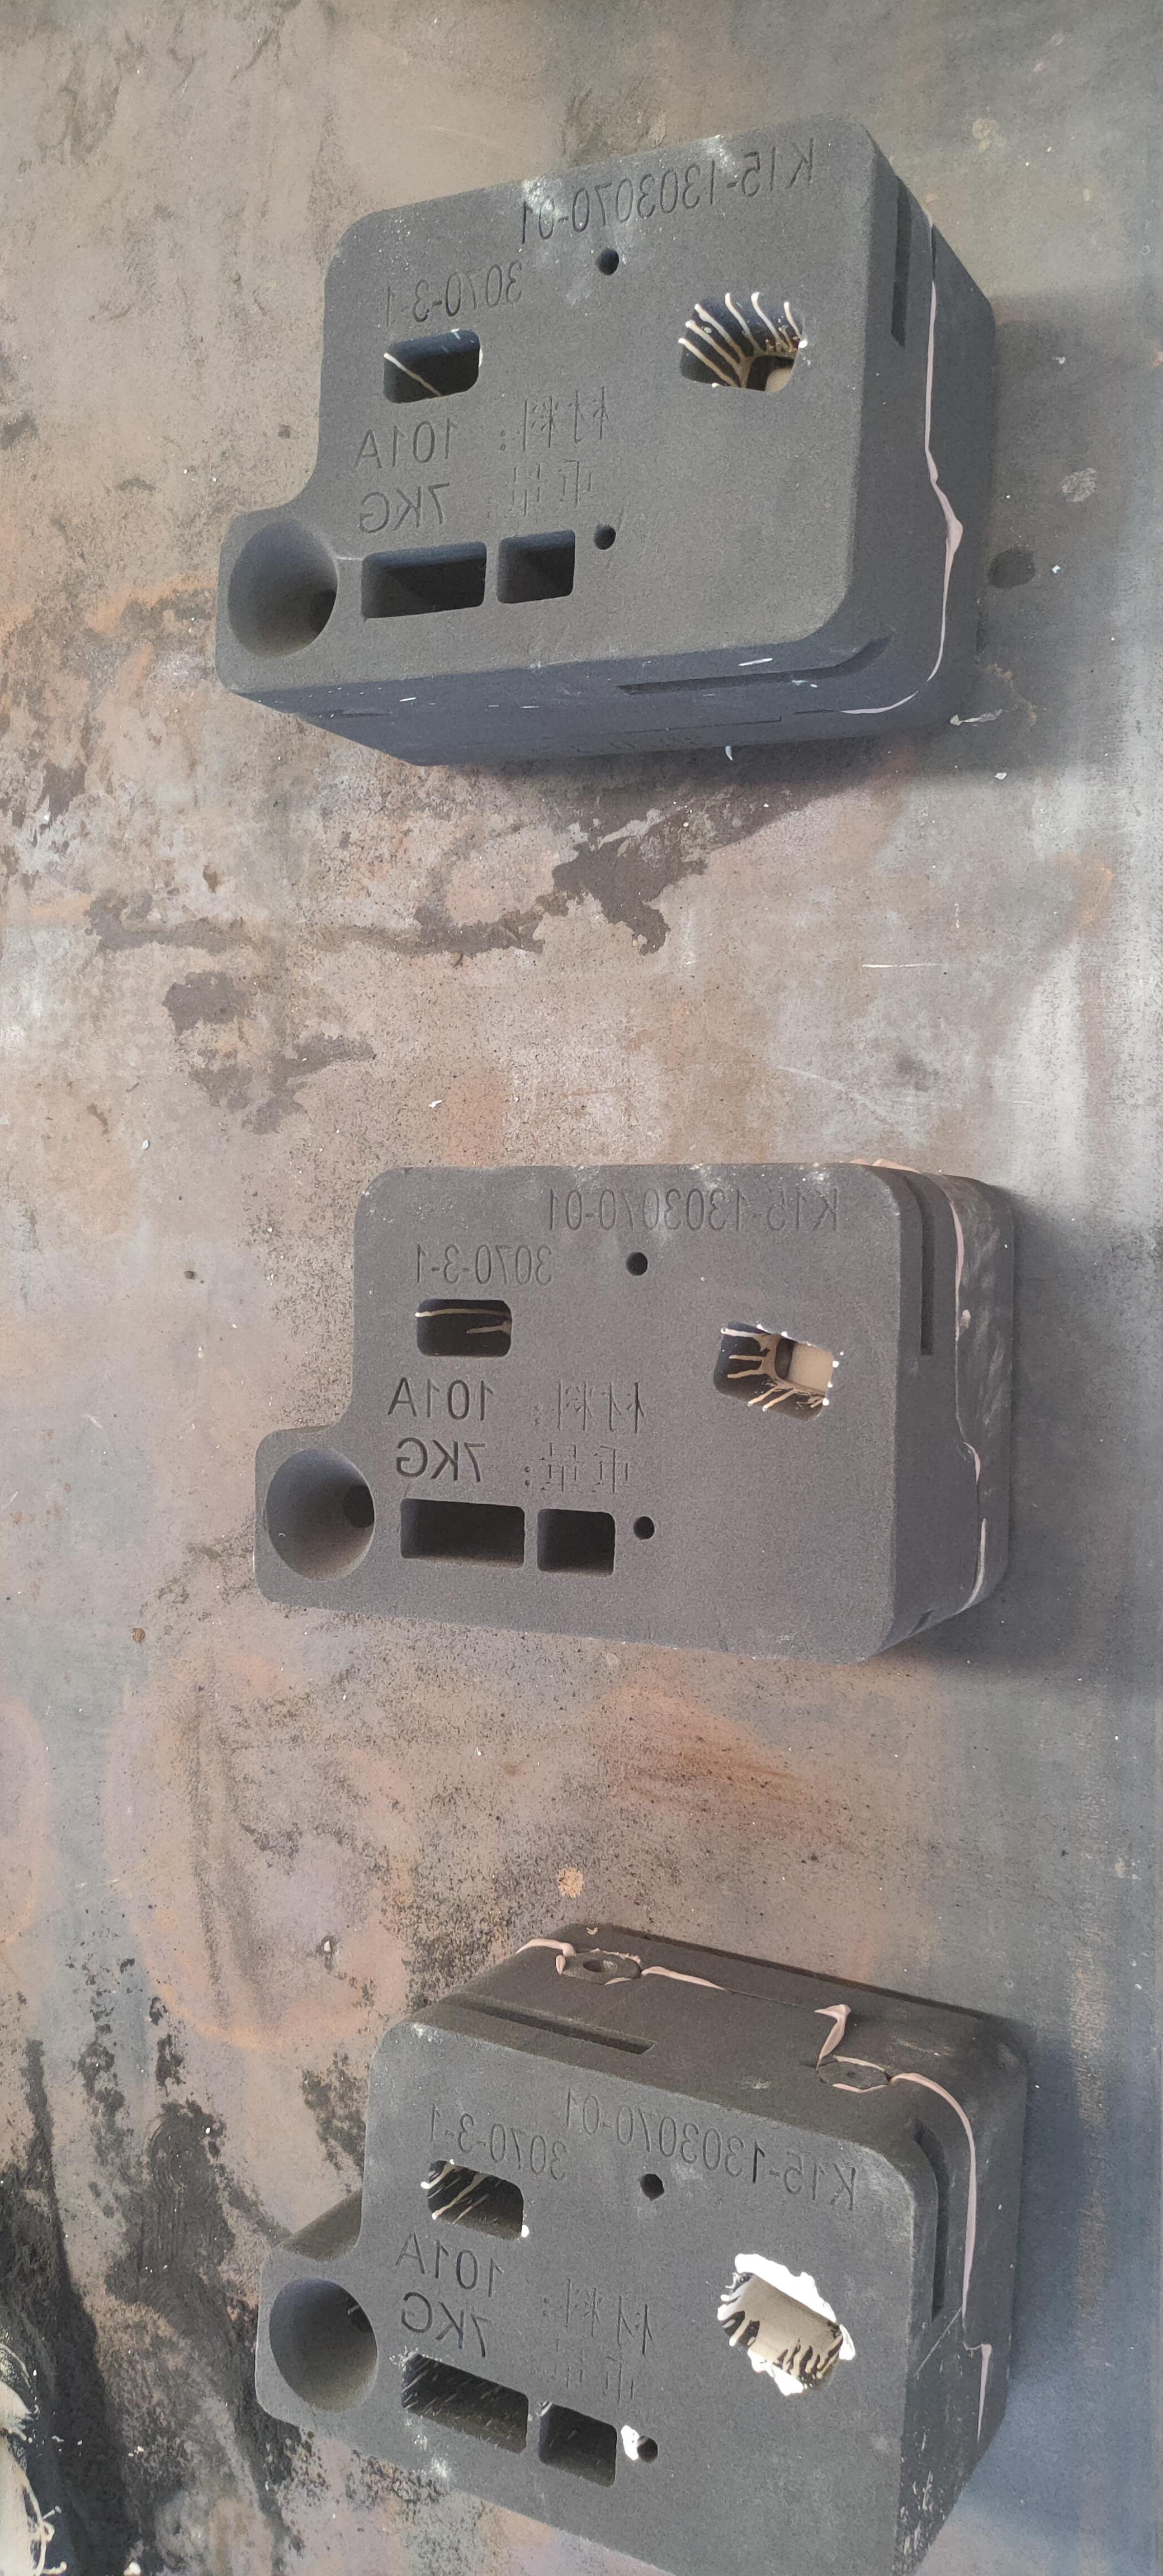pouring hole: (228, 519, 338, 659), (264, 1449, 376, 1582), (269, 2277, 378, 2412)
